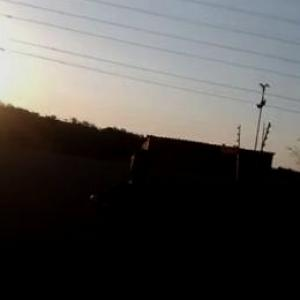follow: (81, 134, 166, 299)
